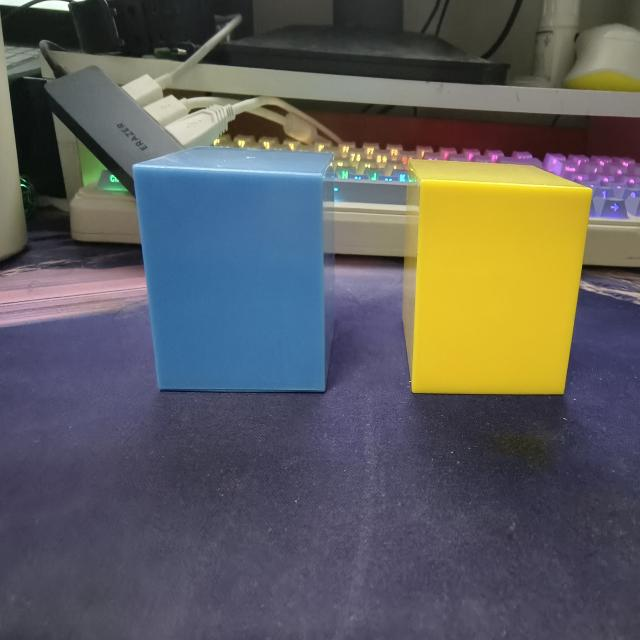blue: (130, 146, 332, 395)
yellow: (408, 157, 592, 399)
